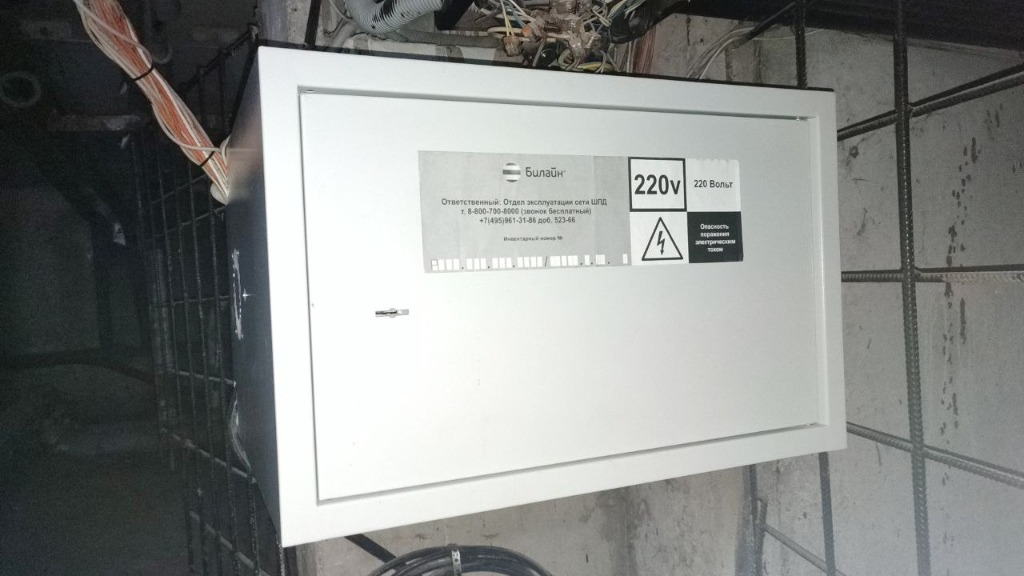shta-7m: (220, 41, 856, 549)
